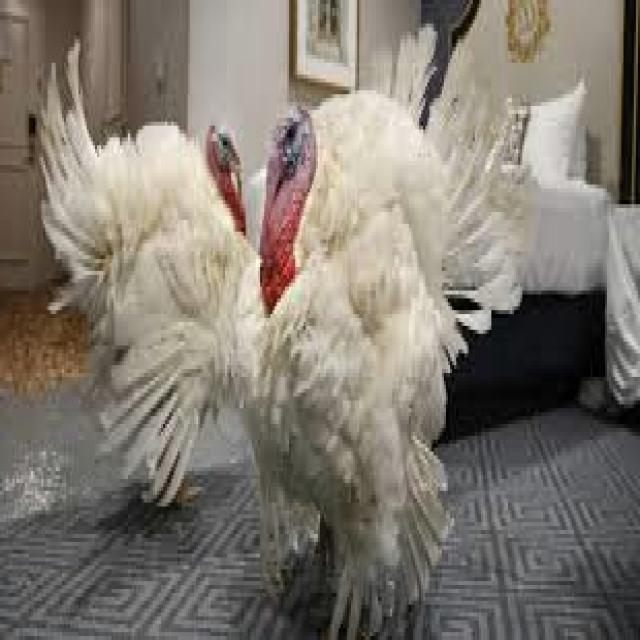turkey: (250, 24, 522, 636), (43, 43, 248, 503)
